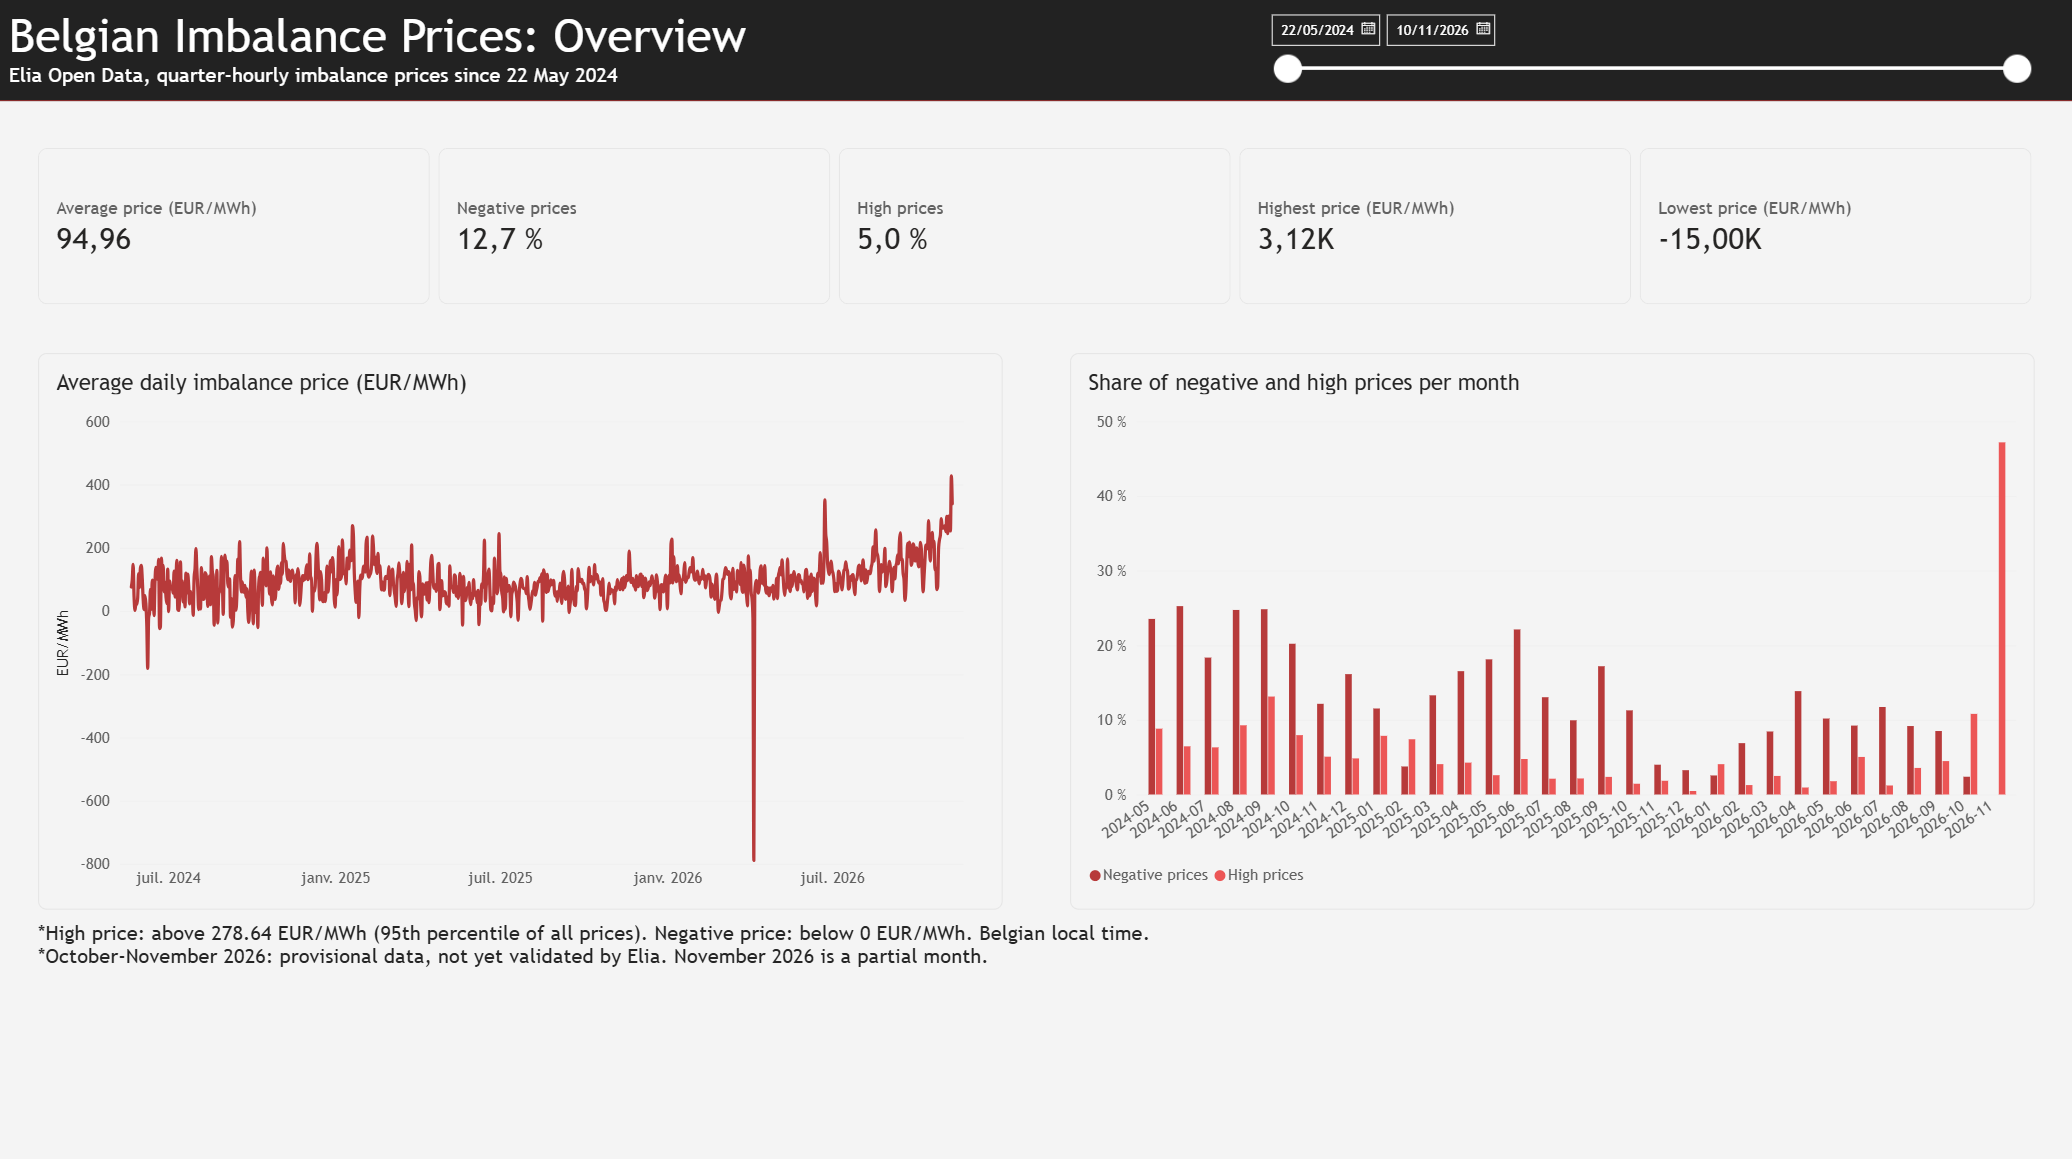

Layout of this report page (visuals, bound fields, positions):
{"tool":"powerbi","page":{"name":"Overview","canvas":[1920,1080],"ordinal":0},"visuals":[{"type":"shape","box":[0,0,1920,97.8],"z":0},{"type":"textbox","box":[12.8,12.8,695.6,84.9],"z":1000},{"type":"slicer","fields":{"Values":["calendar.date_local"]},"box":[1168.3,12.8,711.6,84.9],"z":2000},{"type":"cardVisual","fields":{"Data":["_measures.Avg Daily Price","_measures.% Negative Prices","_measures.% High Prices","_measures.Max Price","_measures.Min Price"]},"box":[40.1,141,1839.9,144.2],"z":3000},{"type":"lineChart","title":"Average daily imbalance price (EUR/MWh)","fields":{"Category":["calendar.date_local"],"Y":["_measures.Avg Daily Price"]},"box":[40.1,330.2,889.5,512.9],"z":4000},{"type":"clusteredColumnChart","title":"Share of negative and high prices per month","fields":{"Category":["calendar.Year Month"],"Y":["_measures.% Negative Prices","_measures.% High Prices"]},"box":[990.5,330.2,889.5,512.9],"z":5000},{"type":"textbox","box":[40.1,852.6,1839.9,227.6],"z":6000}]}

Visuals, with their boxes in screenshot pixels (x1, y1, x2, y2), scaled from the page's 1920x1080 canvas onto the 2072x1159 screenshot:
shape: {"left": 0, "top": 0, "right": 2071, "bottom": 105}
textbox: {"left": 14, "top": 14, "right": 764, "bottom": 105}
slicer - calendar.date_local: {"left": 1261, "top": 14, "right": 2029, "bottom": 105}
cardVisual - _measures.Avg Daily Price x _measures.% Negative Prices: {"left": 43, "top": 151, "right": 2029, "bottom": 306}
"Average daily imbalance price (EUR/MWh)" lineChart: {"left": 43, "top": 354, "right": 1003, "bottom": 905}
"Share of negative and high prices per month" clusteredColumnChart: {"left": 1069, "top": 354, "right": 2029, "bottom": 905}
textbox: {"left": 43, "top": 915, "right": 2029, "bottom": 1158}
